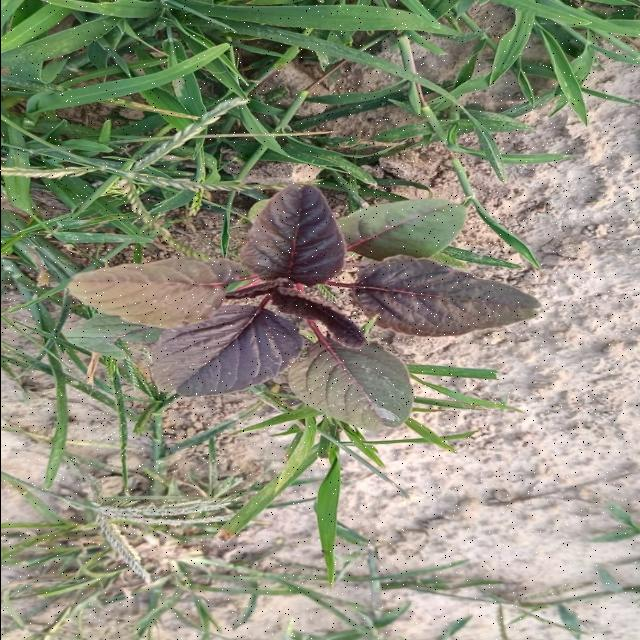plant: (65, 185, 539, 430)
